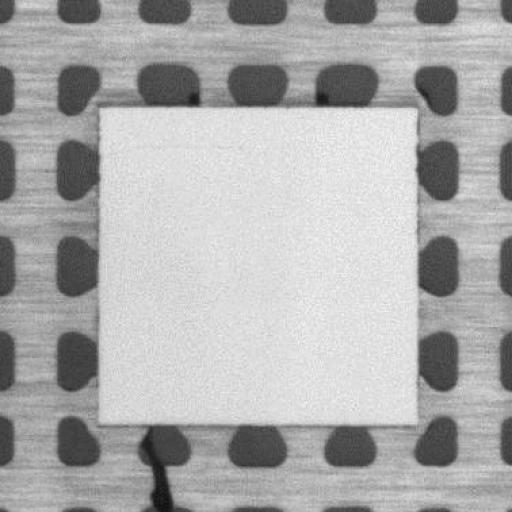DIE_CRACK: (100, 140, 252, 160)
